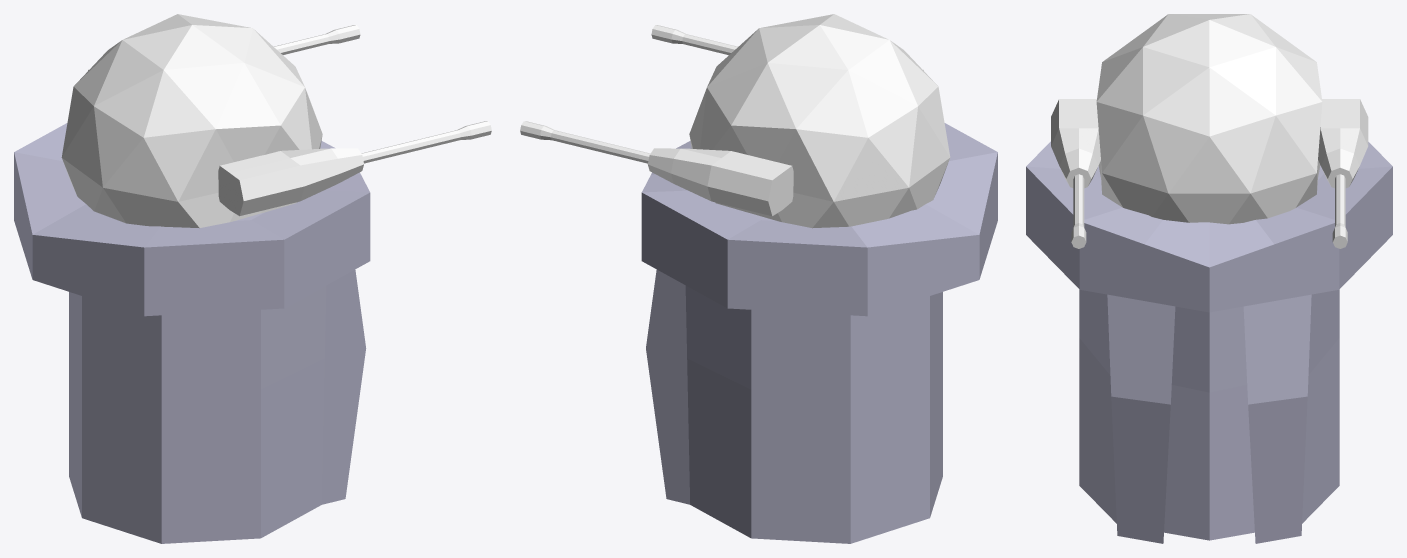
Rendered from turret.fbx.
The picture shows the model from 3 angles, left to right: view 1: azimuth 30°, elevation 25°; view 2: azimuth 150°, elevation 25°; view 3: azimuth 270°, elevation 25°; orthographic projection.
Parts seen in each view (by area): view 1: Cube, Icosphere; view 2: Cube, Icosphere; view 3: Cube, Icosphere.
Boxes of the visible parts, bbox=[...] form: Cube: bbox=[14, 123, 370, 543]; Icosphere: bbox=[61, 14, 491, 228]; Cube: bbox=[641, 123, 997, 543]; Icosphere: bbox=[520, 14, 950, 228]; Cube: bbox=[1026, 141, 1392, 543]; Icosphere: bbox=[1051, 14, 1368, 248].
Bounding box in the file's own units: 236 × 270 × 193.
